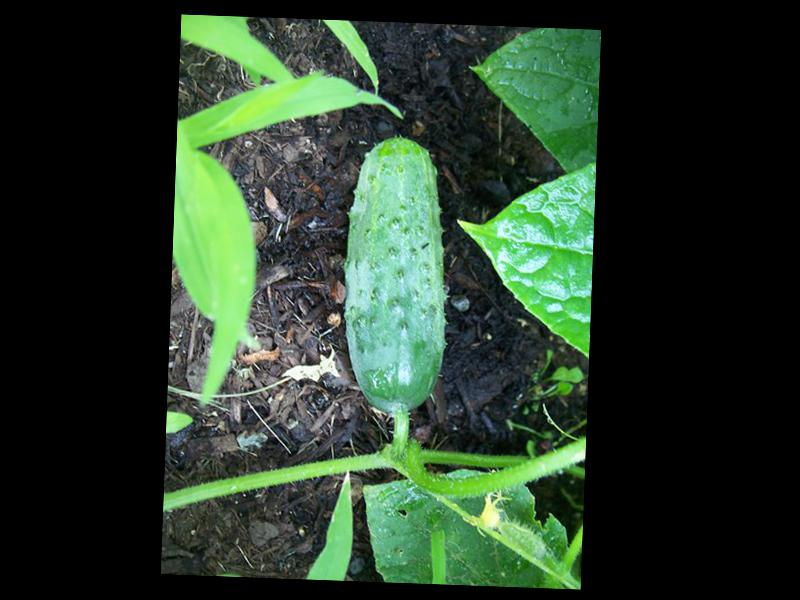Cucumber: (339, 132, 452, 414)
